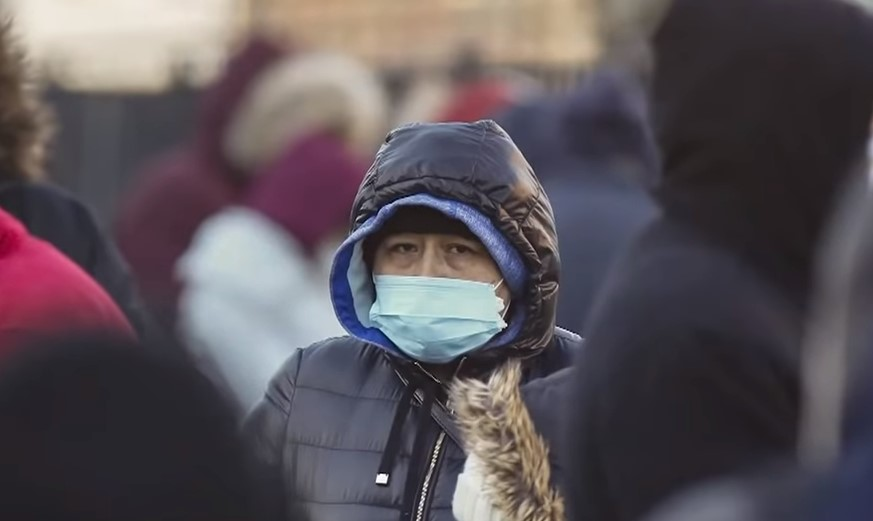face_with_mask: (354, 116, 549, 374)
